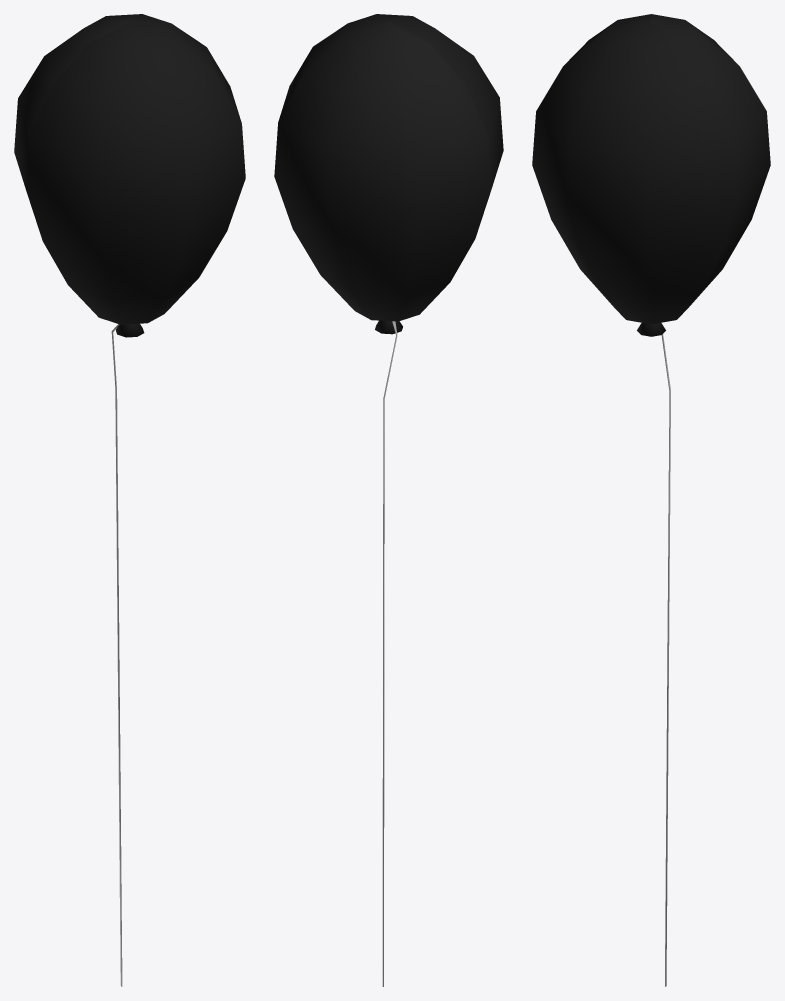
The model's file is BalloonBlack.glb.
3 views of the same model, side by side, from view 1: azimuth 30°, elevation 25°; view 2: azimuth 150°, elevation 25°; view 3: azimuth 270°, elevation 25° (orthographic).
Parts seen in each view (by area): view 1: BalloonBlack; view 2: BalloonBlack; view 3: BalloonBlack.
Boxes of the visible parts, bbox=[...] form: BalloonBlack: bbox=[14, 14, 245, 986]; BalloonBlack: bbox=[274, 14, 503, 986]; BalloonBlack: bbox=[532, 14, 770, 986].
Size of the model in its own units: 0.5007 by 2.23 by 0.5007.
1 material, 1 textured.
